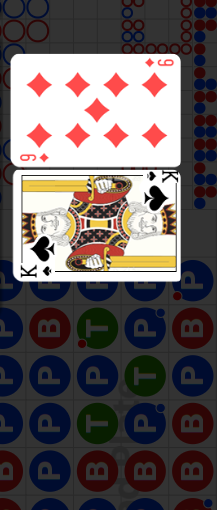9D: (19, 152, 50, 163)
KS: (19, 264, 55, 280)
